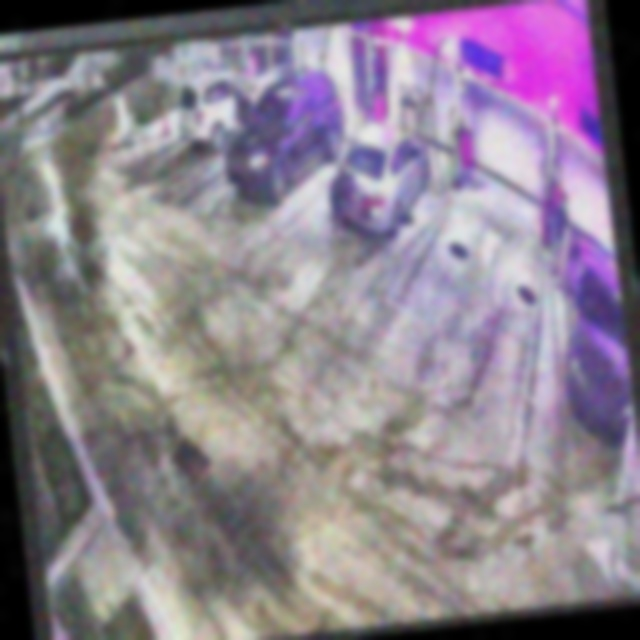Car: (218, 70, 356, 207), (323, 118, 436, 245), (172, 66, 268, 152)
